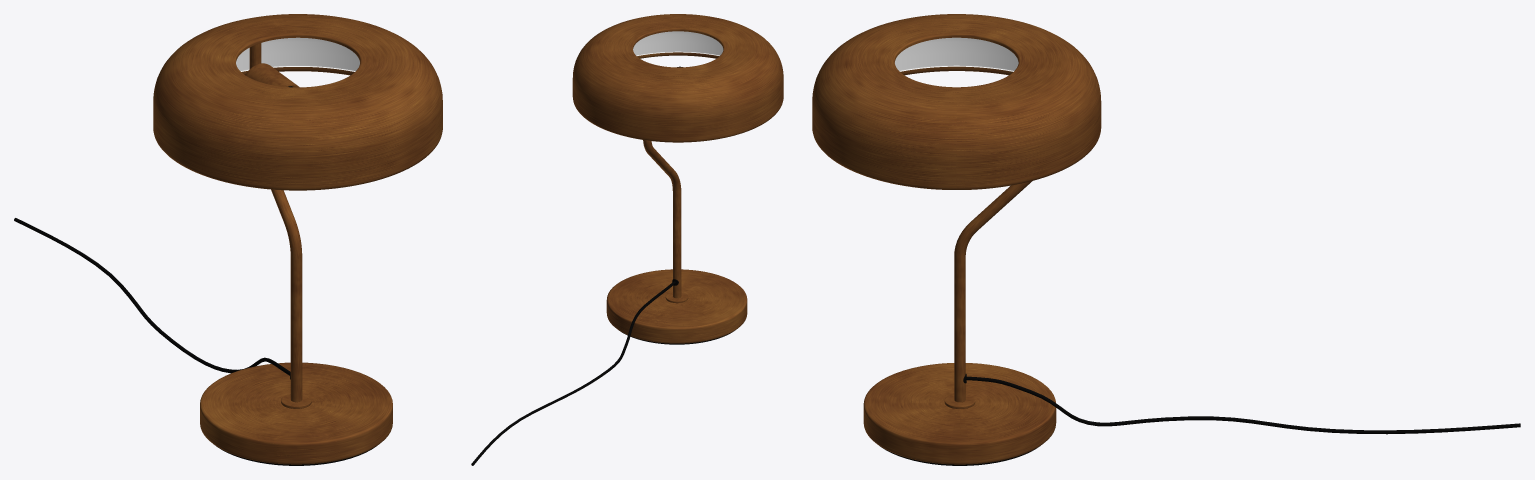
Rendered from Dutchbone_Eclipse_Desk_Lamp_mat(1).fbx.
3 renders of one model, left to right at view 1: azimuth 30°, elevation 25°; view 2: azimuth 150°, elevation 25°; view 3: azimuth 270°, elevation 25°, orthographic. The views are drawn at different scales.
Visible parts, largest first — view 1: Dutchbone_Eclipse_Desk_Lamp_mat1; view 2: Dutchbone_Eclipse_Desk_Lamp_mat1; view 3: Dutchbone_Eclipse_Desk_Lamp_mat1.
Boxes of the visible parts, x1,y1,x2,y2 form: Dutchbone_Eclipse_Desk_Lamp_mat1: [14, 14, 442, 465]; Dutchbone_Eclipse_Desk_Lamp_mat1: [471, 14, 783, 465]; Dutchbone_Eclipse_Desk_Lamp_mat1: [812, 14, 1520, 465].
Bounding box in the file's own units: 30 × 73.55 × 42.
